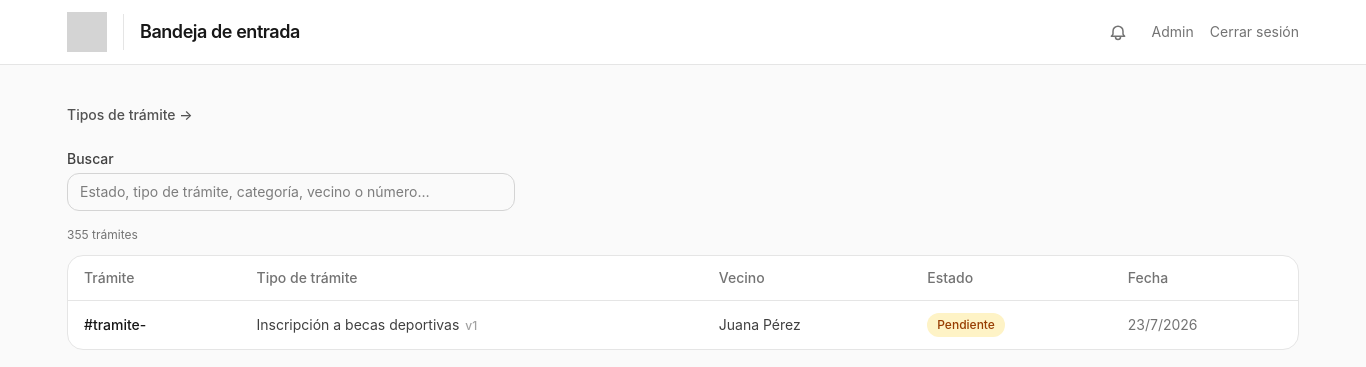
Test case: BandejaEntrada › el contador aclara el total general cuando la búsqueda filtra resultados
This screenshot has width=1366, height=367.
Check: the text "Juana Pérez" is shown, box [703,300,911,349]
Step 1. Type "gómez" into the search field labelled "Buscar" → (291, 192), box [67,173,515,211]
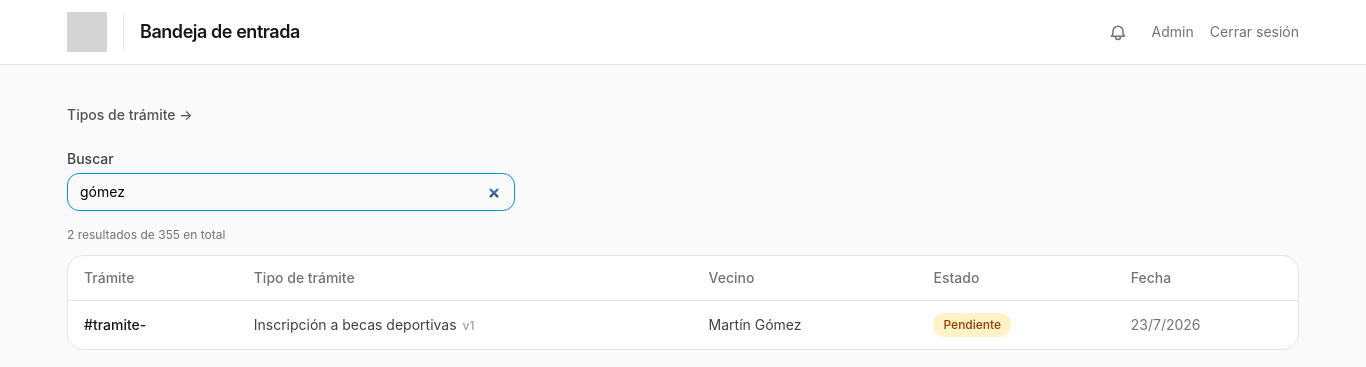
Check: the text "2 resultados de 355 en total" is shown, box [67,227,225,242]
